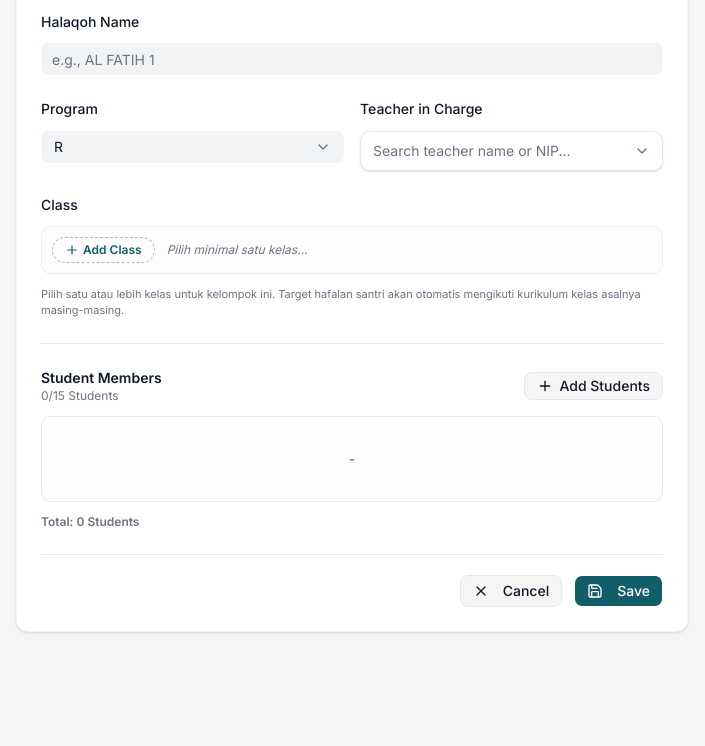
Test: HalaqohForm Component › should display validation errors when submitting empty form
Step 1. Click the button "Save" → [619, 591], box [574,575,663,607]
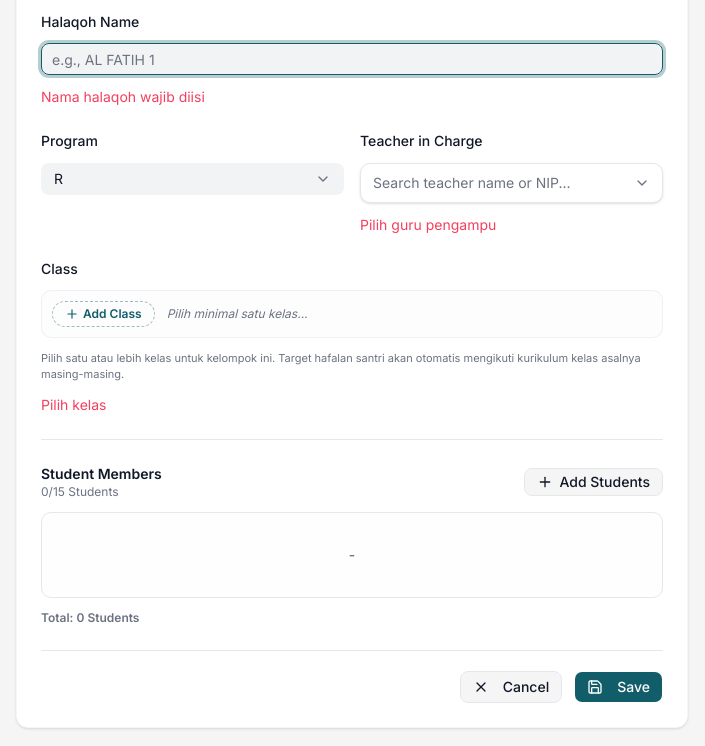
Check: the text "Nama halaqoh wajib diisi" is shown, box [41,88,205,105]
Check: the text "Pilih kelas" is shown, box [41,396,106,413]
